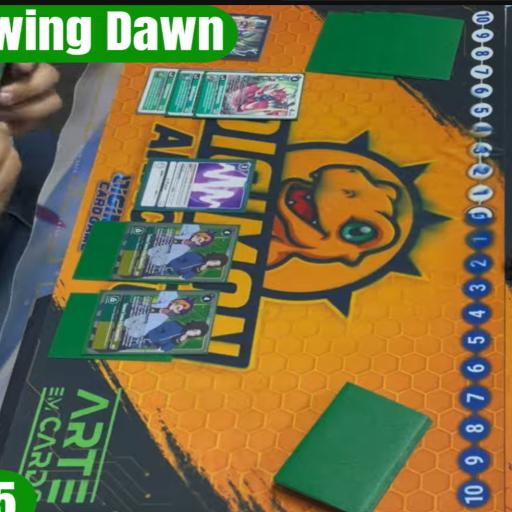card: (86, 286, 220, 360), (118, 224, 243, 282), (194, 69, 309, 121), (141, 155, 251, 208), (165, 68, 207, 116), (138, 67, 180, 114)
